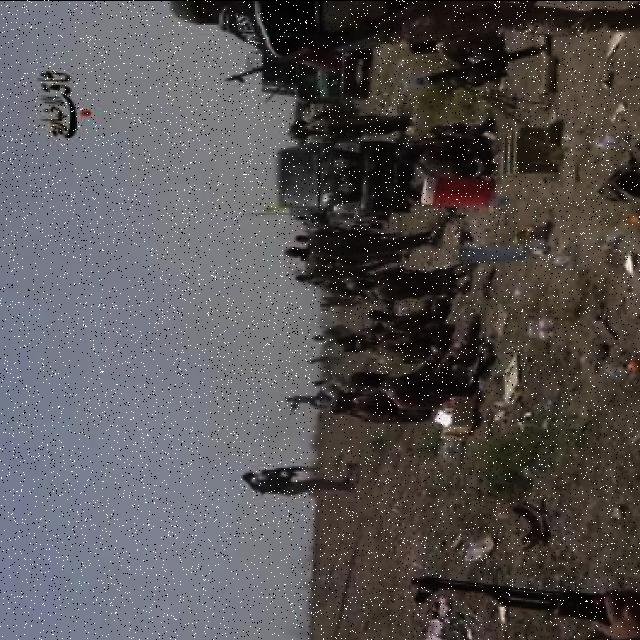Rifle: (410, 575, 640, 630)
